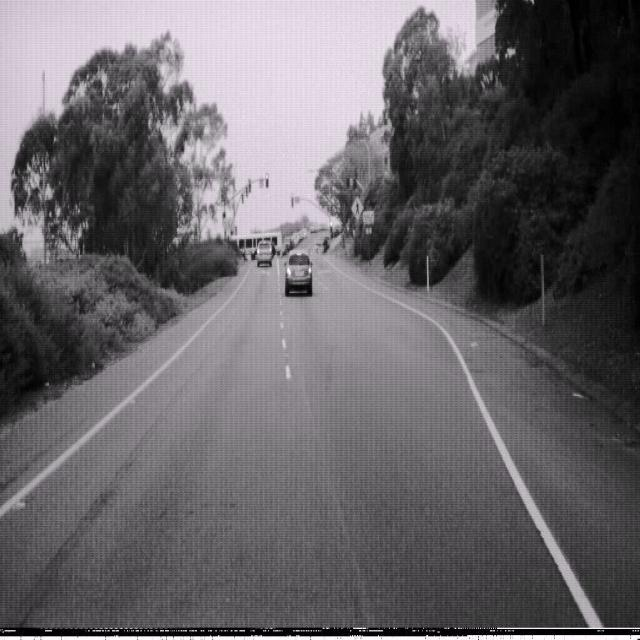pedestrianCrossing: (350, 194, 364, 222)
